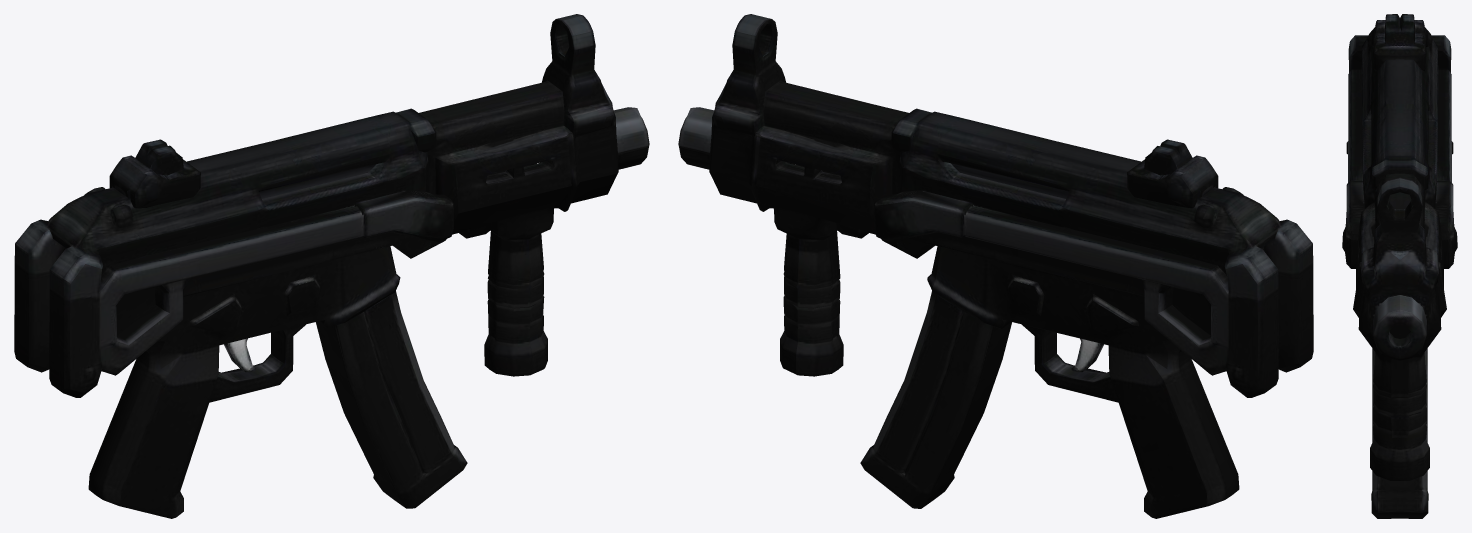
File: compact_submachine_gun.glb
3 renders of one model, left to right at view 1: azimuth 30°, elevation 25°; view 2: azimuth 150°, elevation 25°; view 3: azimuth 270°, elevation 25°, orthographic. The views are drawn at different scales.
Visible parts, largest first — view 1: world; view 2: world; view 3: world.
Part boxes in pixels (x1,y1,x2,y2): world: (14, 14, 649, 518); world: (678, 14, 1313, 518); world: (1342, 14, 1457, 518).
Size of the model in its own units: 1 by 0.7055 by 0.1776.
1 material, 1 textured.
